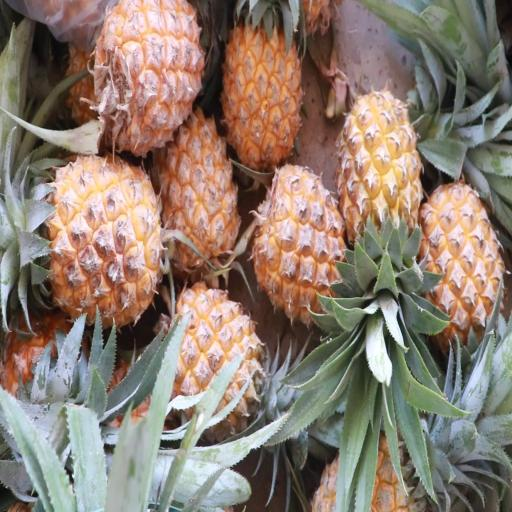Pineapple - v8 v1: (0, 148, 168, 326), (89, 2, 204, 165), (158, 281, 272, 439), (336, 87, 425, 283), (248, 160, 350, 330), (418, 178, 508, 365), (152, 108, 243, 285), (220, 0, 303, 184)
